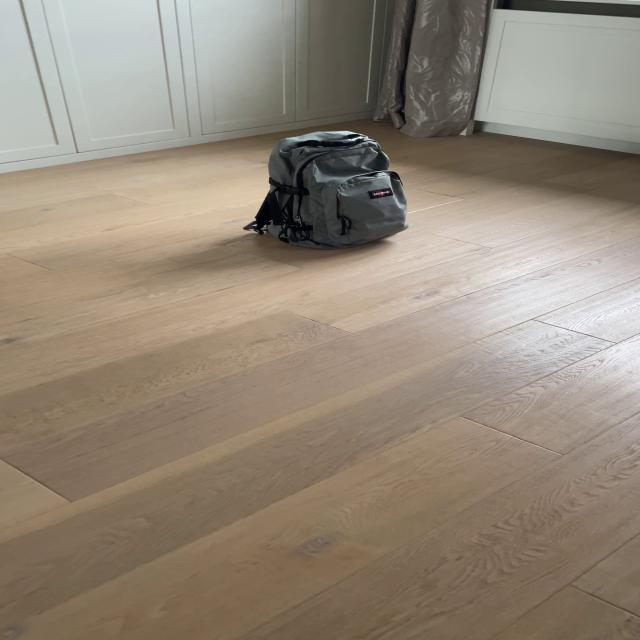backpack: (244, 125, 415, 256)
